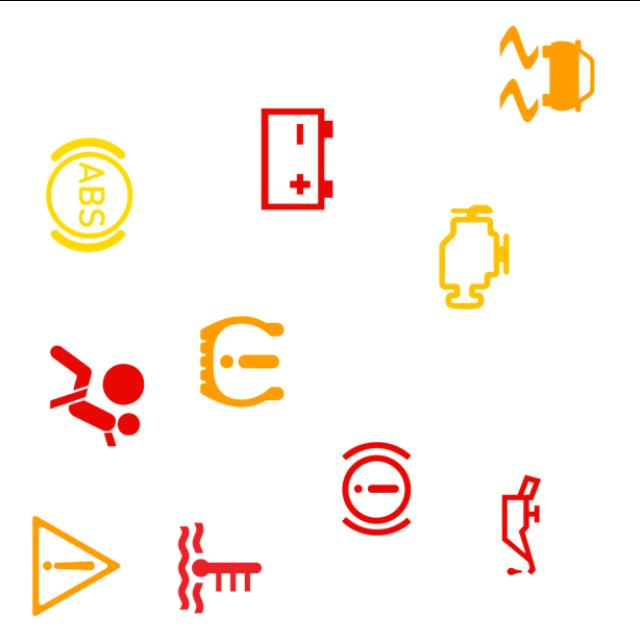Anti Lock Braking System: (27, 132, 152, 256)
Braking System Issue: (314, 426, 439, 550)
Charging System Issue: (234, 96, 360, 221)
Check Engine: (412, 194, 537, 319)
Electronic Stability Problem -ESP-: (484, 10, 610, 136)
Engine Overheating Warning Light: (158, 504, 282, 630)
Low Engine Oil Warning Light: (458, 462, 584, 587)
Low Tire Pressure Warning Light: (180, 298, 304, 423)
Master warning light: (13, 502, 138, 628)
SRS-Airbag: (34, 332, 160, 458)
